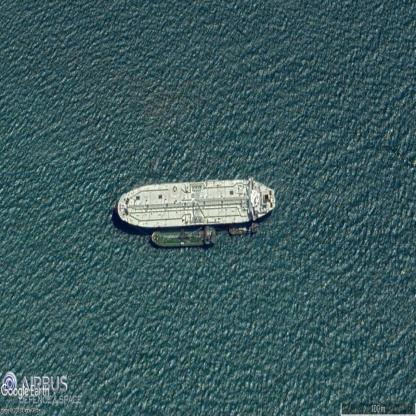ship: (117, 177, 275, 230), (152, 226, 216, 245), (228, 223, 258, 234)
